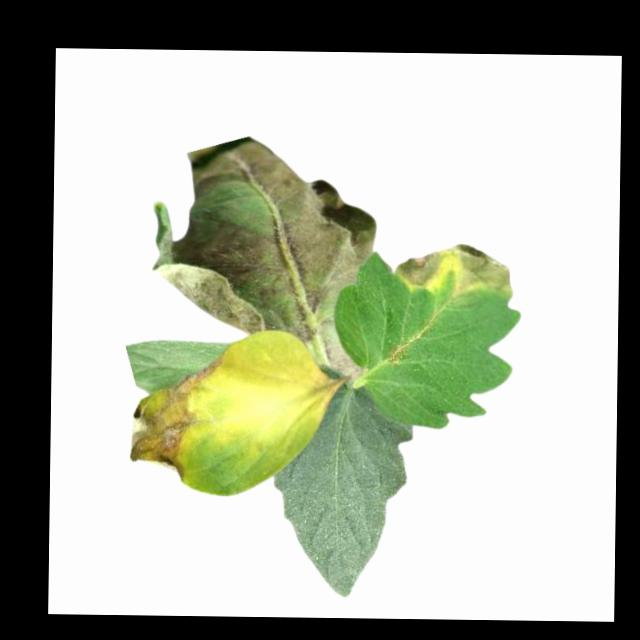Late_blight: (150, 135, 378, 342), (127, 344, 225, 481), (393, 243, 514, 302), (321, 341, 364, 383), (384, 339, 408, 366)
healthy: (272, 382, 413, 598)
